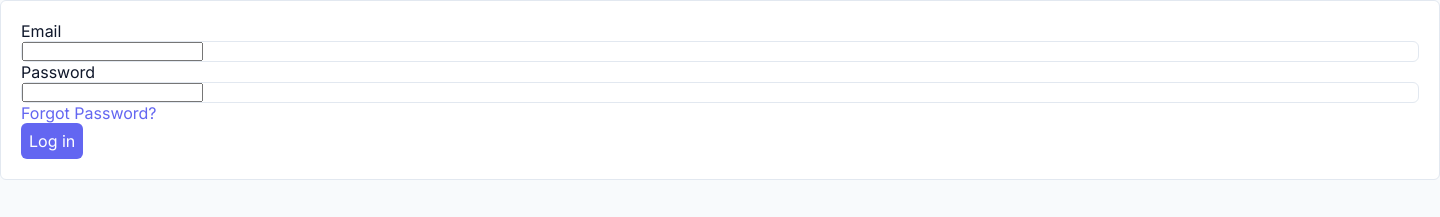
LoginForm › displays error messages when form data is invalid
Type "test@example" into the field labelled "Email" at (112, 52), box [22,42,203,61]
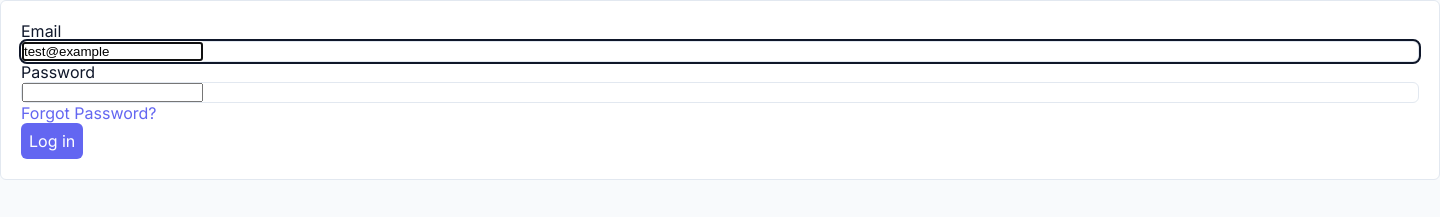
Type "password" into the password field labelled "Password" at (112, 92), box [22,83,203,102]
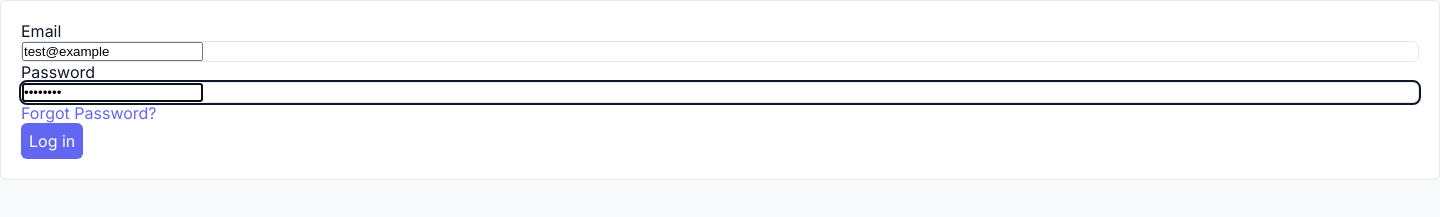
Click the button "Log in" at (52, 141), box [21,123,83,159]
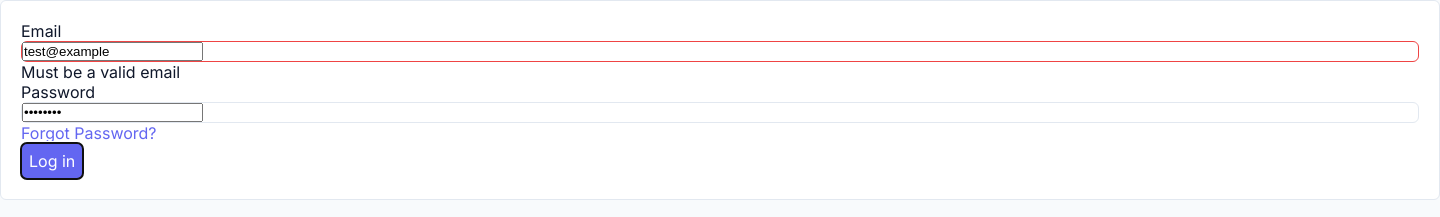
Now the text "Must be a valid email" is shown, box [21,62,180,82]
